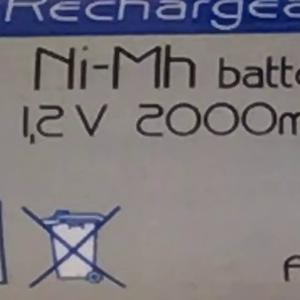NI-MH: (24, 34, 206, 101)
